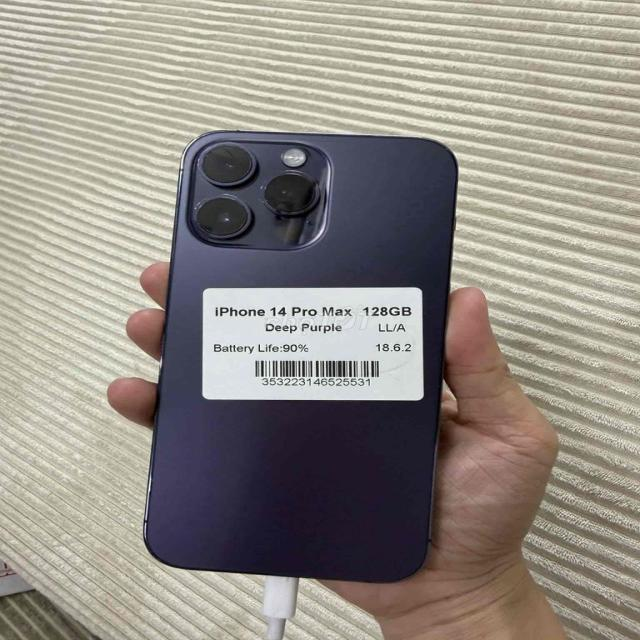gen_14: (142, 126, 462, 594)
